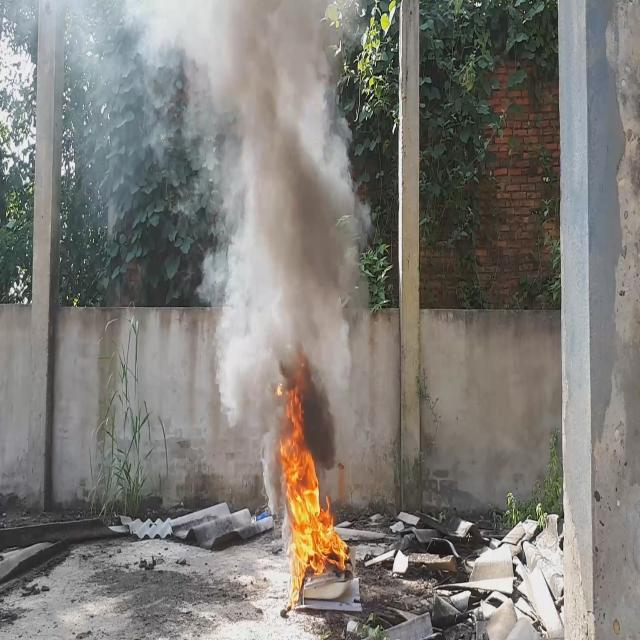Fire: (278, 360, 349, 613)
Smoke: (76, 0, 373, 525)
